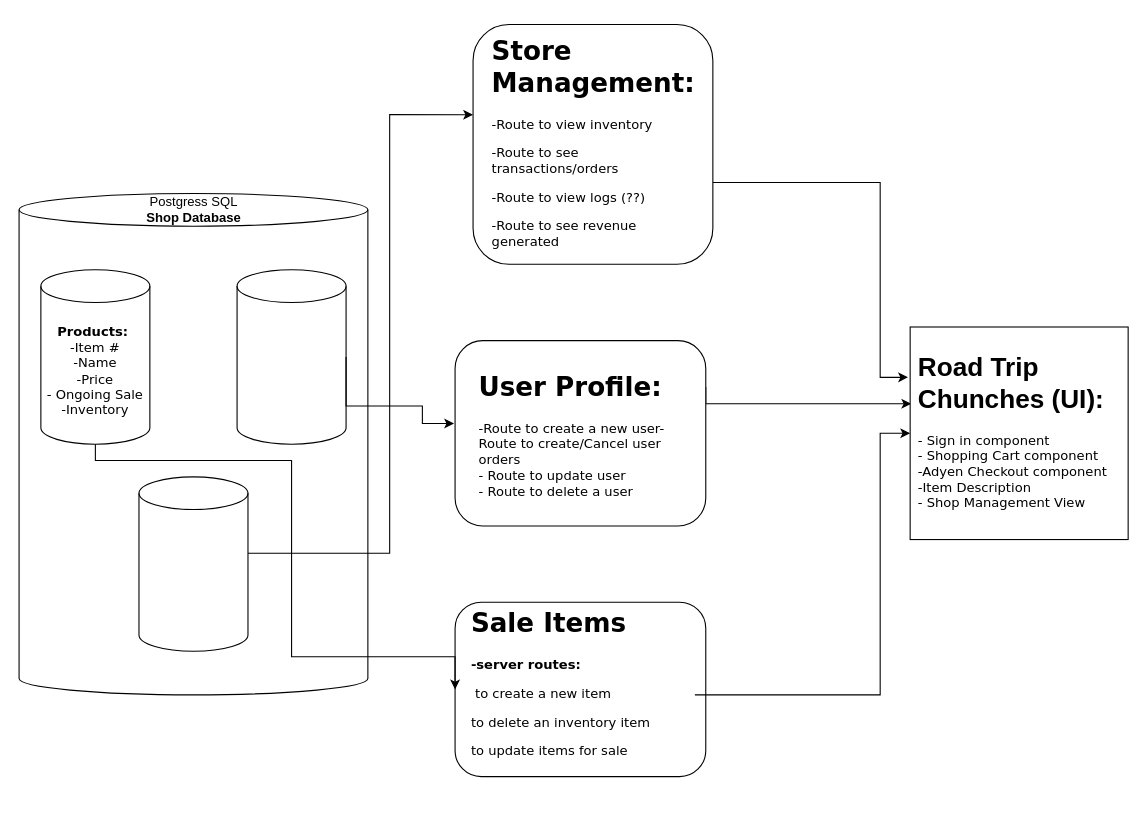
This 1148x815 diagram has some shape labels left out. Here are the shapes that lost their labels. From the top down, the centre of each, then its label:
At point 291,356: "Users: - Name -email -phone # - Shipping Address -Billing Info -Shopping Cart".
At point 193,563: "Sales & Revenue: - Name -Units Sold - Product Cost - Item Revenue".
